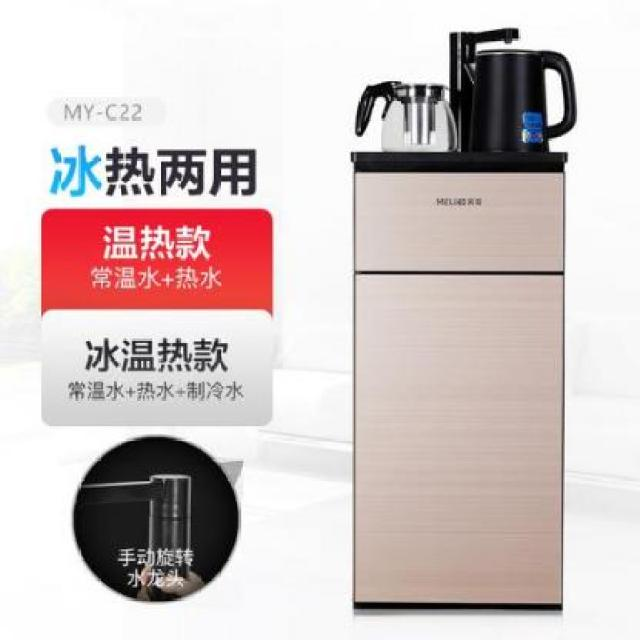cooler: (329, 19, 596, 622)
